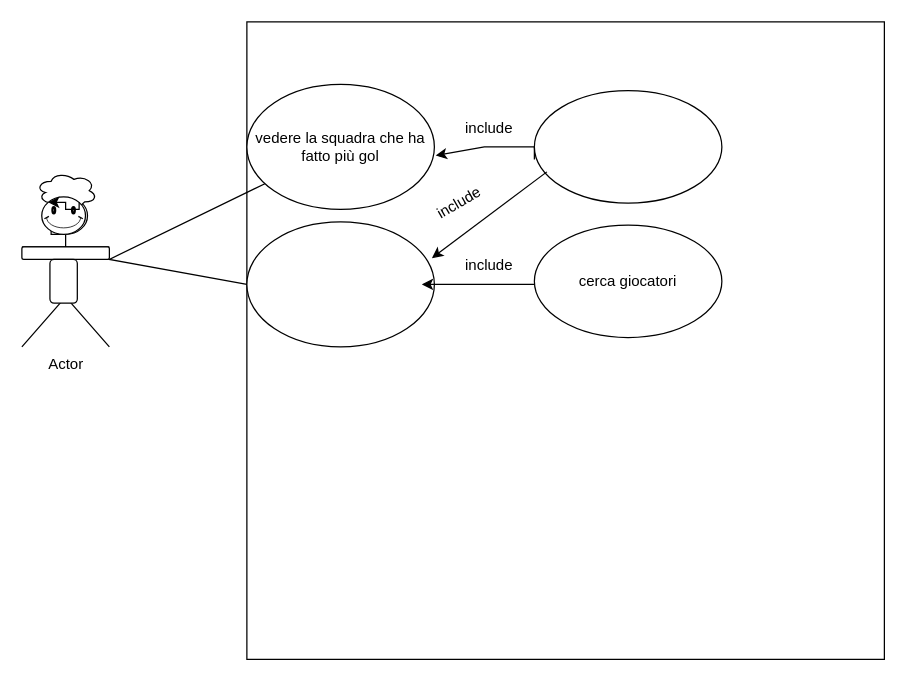
This 906x681 diagram has some shape labels left out. The shapes that lost their labels are listed below. From the top down, each one's centre as x and y in pixels, then its label:
point 627,146: cerca squadra
point 340,284: vedere i nomi dei calciatori che hanno segnato in una squadra
